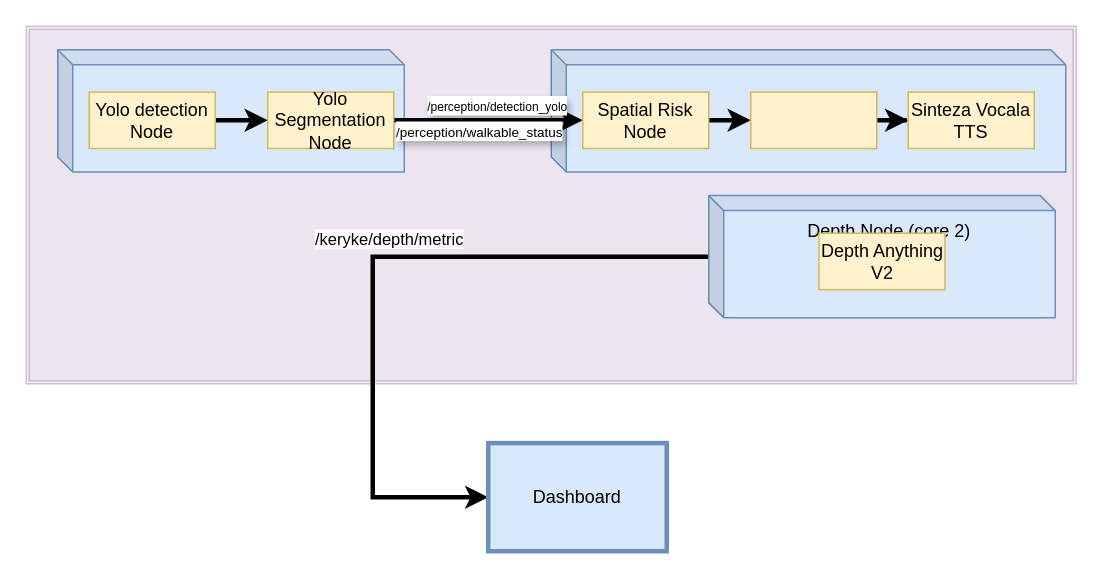
This 1103x579 diagram has some shape labels left out. Here are the shapes that lost their labels. From the top down, the box of each, then its label:
(56, 48, 404, 172): Perception Container (cores 0-1)
(550, 48, 1066, 172): Decision Container (core 3)
(749, 91, 877, 148): Narrator Determinist
